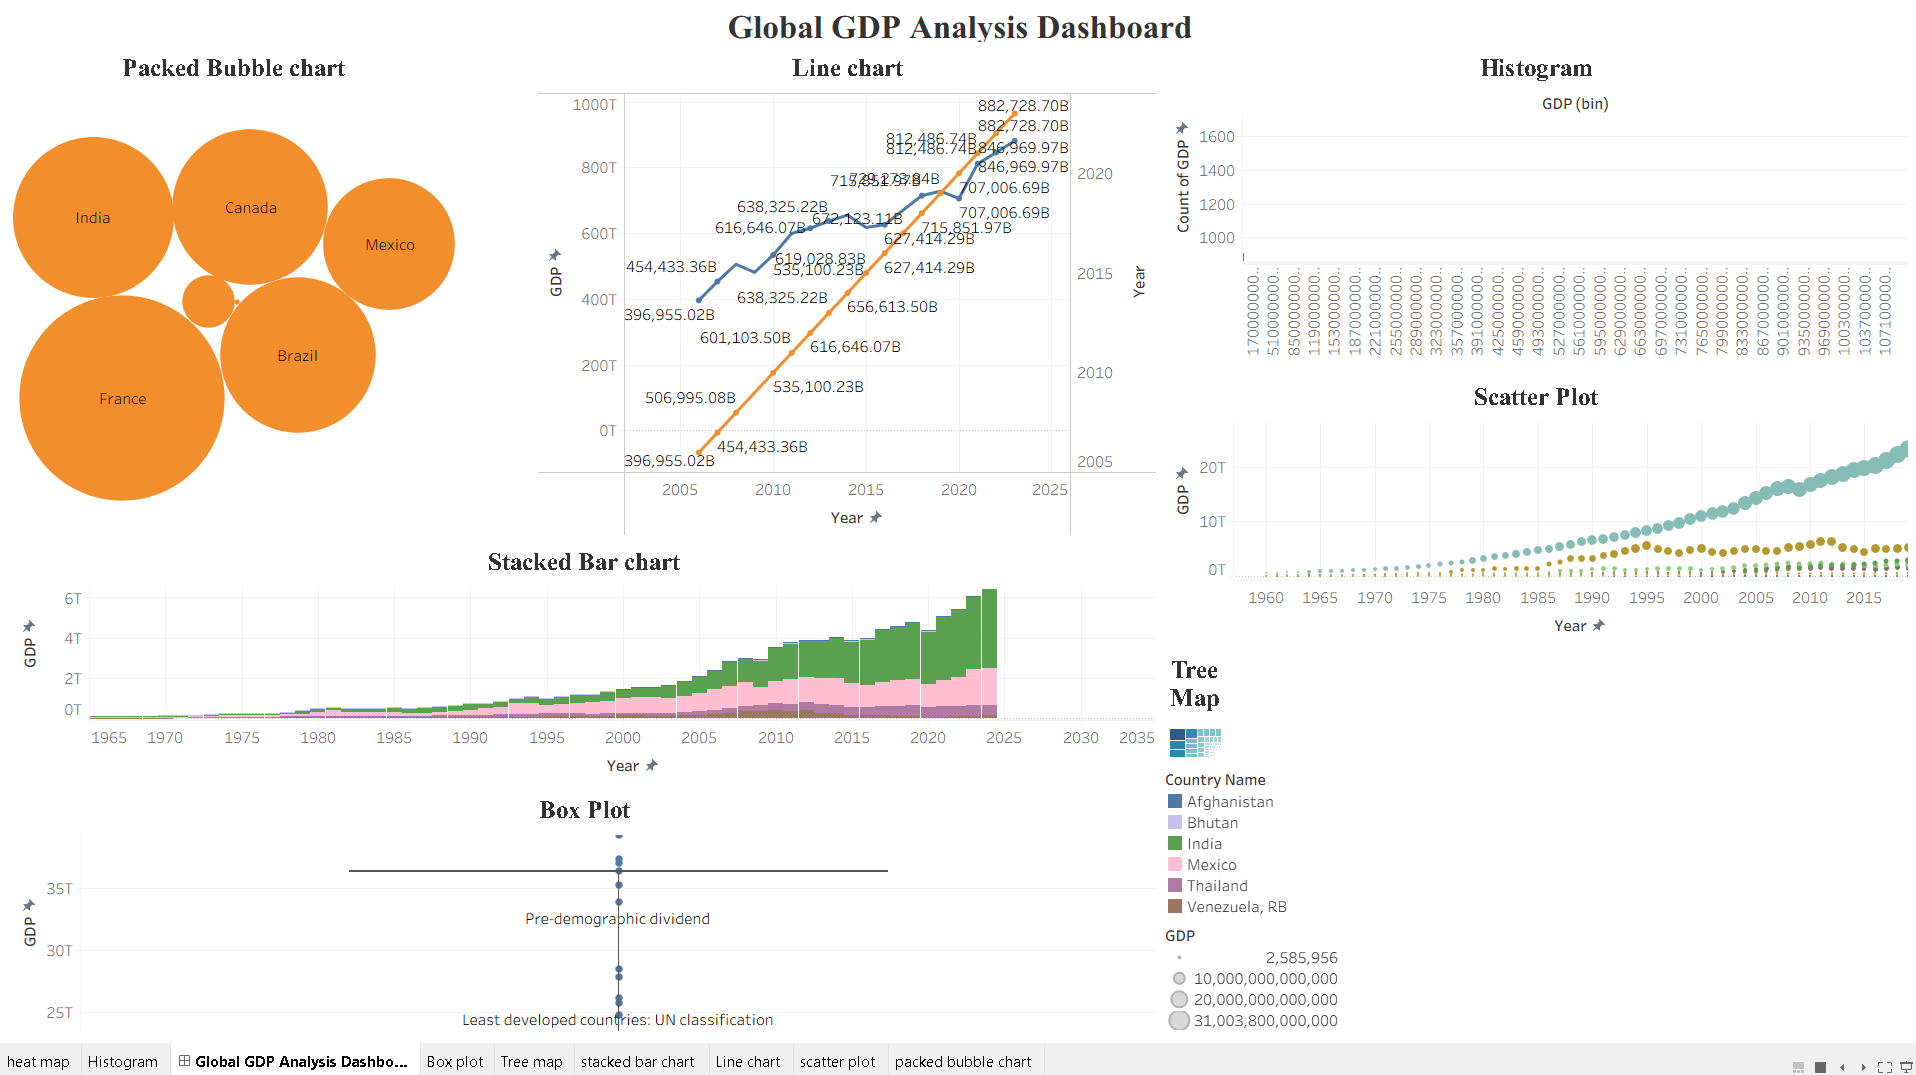

What the dashboard file says about the page in this screenshot:
{"tool":"tableau","page":{"name":"Global GDP Analysis Dashboard","canvas":[1000,1000],"units":"permille","ordinal":0},"visuals":[{"type":"title","box":[4.8,9.4,990.3,44.6]},{"type":"worksheet","title":"packed bubble chart","mark":"Circle","box":[4.8,54.1,245.2,468.1]},{"type":"worksheet","title":"Line chart","mark":"Line","rows":["GDP","Year"],"cols":["Year"],"box":[250,54.1,291.9,468.1]},{"type":"worksheet","title":"Histogram","mark":"Automatic","rows":["GDP"],"cols":["GDP (bin)"],"box":[541.9,54.1,453.2,238]},{"type":"worksheet","title":"scatter plot","mark":"Circle","rows":["GDP"],"cols":["Year"],"box":[541.9,292,453.2,243.8]},{"type":"worksheet","title":"stacked bar chart","mark":"Bar","rows":["GDP"],"cols":["Year"],"box":[4.8,522.1,537.1,234.1]},{"type":"worksheet","title":"Tree map","mark":"Automatic","box":[541.9,535.9,453.2,137.5]},{"type":"legend","title":"stacked bar chart","param":"[federated.168phc21k1dow718czc7i0lq9r8r].[none:Country Name:nk]","box":[541.9,673.3,453.2,183.3]},{"type":"worksheet","title":"Box plot","mark":"Circle","rows":["GDP"],"box":[4.8,756.3,537.1,234.3]},{"type":"legend","title":"scatter plot","param":"[federated.168phc21k1dow718czc7i0lq9r8r].[sum:GDP:qk]","box":[541.9,856.6,453.2,134]}]}

Visuals, with their boxes on the dashboard's canvas, which has no fixed pixel size, in thousandths of its width and height (x1, y1, x2, y2). These are canvas units, not pixel positions in the 1916x1075 screenshot, which may show the page scaled, cropped or inside an application window:
title: bbox=(5, 9, 995, 54)
"packed bubble chart" worksheet (Circle marks): bbox=(5, 54, 250, 522)
"Line chart" worksheet (Line marks): bbox=(250, 54, 542, 522)
"Histogram" worksheet: bbox=(542, 54, 995, 292)
"scatter plot" worksheet (Circle marks): bbox=(542, 292, 995, 536)
"stacked bar chart" worksheet (Bar marks): bbox=(5, 522, 542, 756)
"Tree map" worksheet: bbox=(542, 536, 995, 673)
"stacked bar chart" legend: bbox=(542, 673, 995, 857)
"Box plot" worksheet (Circle marks): bbox=(5, 756, 542, 991)
"scatter plot" legend: bbox=(542, 857, 995, 991)
